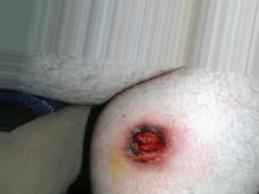Spider: (122, 126, 169, 166)
